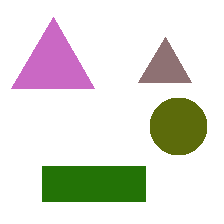circle: (150, 98, 206, 154)
rectangle: (42, 166, 145, 201)
triangle: (11, 17, 94, 88), (138, 37, 191, 82)
